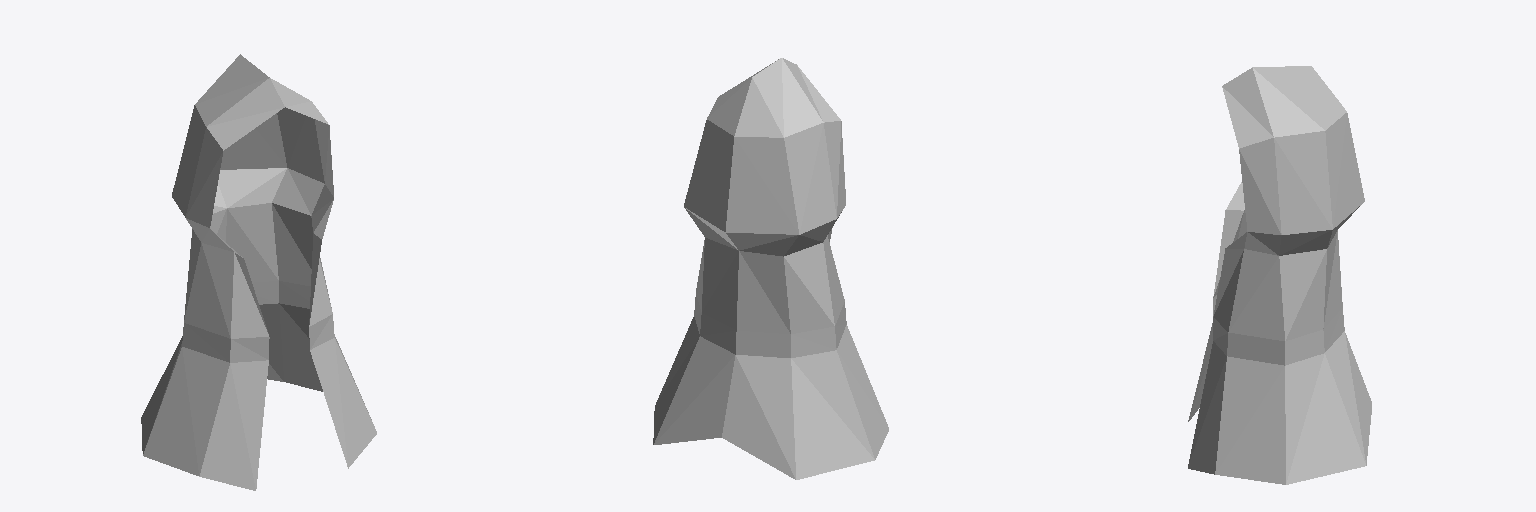
Rendered from stand_color.obj.
3 views of the same model, side by side, from view 1: azimuth 30°, elevation 25°; view 2: azimuth 150°, elevation 25°; view 3: azimuth 270°, elevation 25° (orthographic).
Parts seen in each view (by area): view 1: COLOR_ME.001_COLOR_ME.004; view 2: COLOR_ME.001_COLOR_ME.004; view 3: COLOR_ME.001_COLOR_ME.004.
Part boxes in pixels (left/top/right/bottom): COLOR_ME.001_COLOR_ME.004: left=141, top=54, right=376, bottom=490; COLOR_ME.001_COLOR_ME.004: left=653, top=58, right=888, bottom=479; COLOR_ME.001_COLOR_ME.004: left=1188, top=66, right=1371, bottom=484.
Size of the model in its own units: 0.8582 by 1.41 by 0.6233.